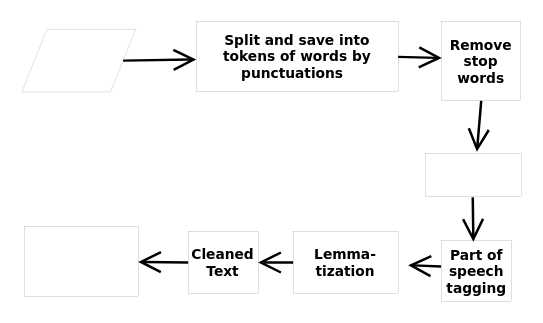
Some shapes in this 543 by 323 pixel diagram are drawn without their labels. Each missing label, with the centre of its shape:
Analyze pattern of the cleaned text: point 81,261
Read Raw Text: point 78,60
Stemming: point 473,174
